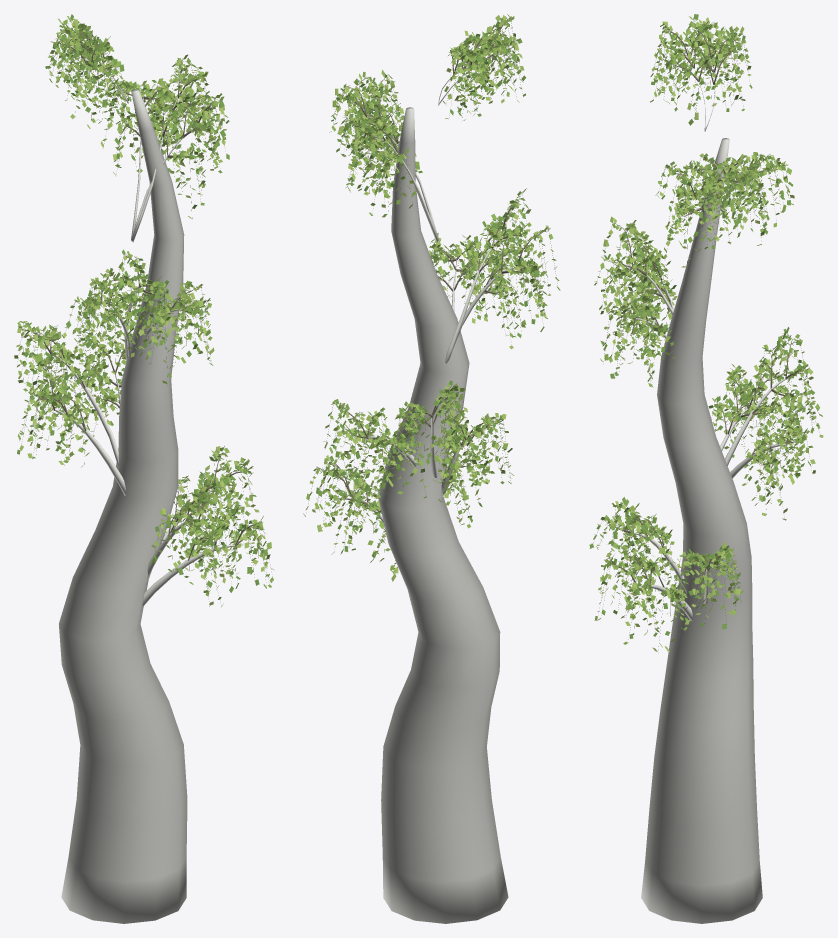
Rendered from bg_birch_2.glb.
3 views of the same model, side by side, from view 1: azimuth 30°, elevation 25°; view 2: azimuth 150°, elevation 25°; view 3: azimuth 270°, elevation 25° (orthographic). The views are drawn at different scales.
Parts seen in each view (by area): view 1: birch_trunk, birch_part3, birch_part1, birch_part2, birch_part0, birch_part90, birch_part94; view 2: birch_trunk, birch_part1, birch_part2, birch_part3, birch_part0; view 3: birch_trunk, birch_part3, birch_part2, birch_part1, birch_part0.
Boxes of the visible parts, left/top/right/bottom form: birch_trunk: left=59, top=89, right=187, bottom=923; birch_part3: left=16, top=16, right=270, bottom=606; birch_part1: left=17, top=14, right=274, bottom=592; birch_part2: left=14, top=18, right=273, bottom=599; birch_part0: left=17, top=19, right=272, bottom=606; birch_part90: left=55, top=409, right=126, bottom=495; birch_part94: left=142, top=545, right=234, bottom=606; birch_trunk: left=378, top=107, right=508, bottom=923; birch_part1: left=303, top=14, right=560, bottom=567; birch_part2: left=306, top=16, right=556, bottom=573; birch_part3: left=306, top=15, right=559, bottom=581; birch_part0: left=307, top=16, right=557, bottom=581; birch_trunk: left=641, top=138, right=762, bottom=923; birch_part3: left=593, top=16, right=823, bottom=651; birch_part2: left=589, top=19, right=820, bottom=647; birch_part1: left=589, top=14, right=819, bottom=638; birch_part0: left=593, top=18, right=819, bottom=649.
Bounding box in the file's own units: 4.09 × 15.75 × 3.9.
5 materials, 5 textured.
